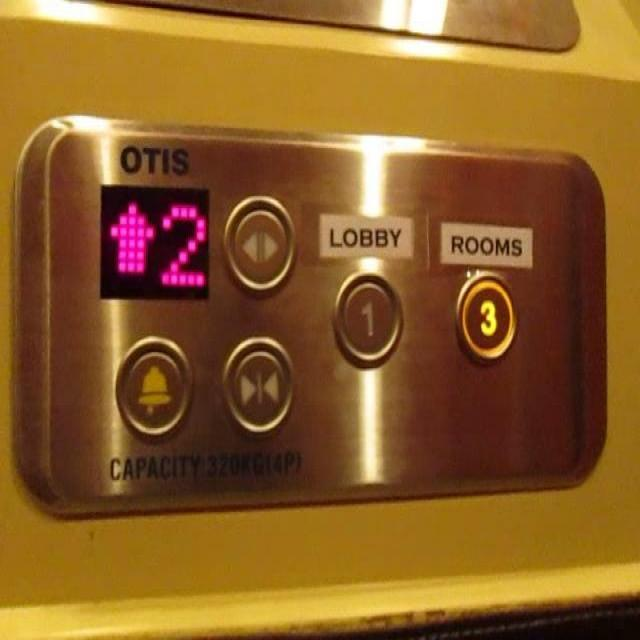1: (328, 265, 405, 375)
3: (449, 268, 521, 367)
alarm: (111, 332, 194, 443)
close: (215, 333, 295, 436)
led: (95, 179, 211, 301)
open: (220, 189, 299, 299)
